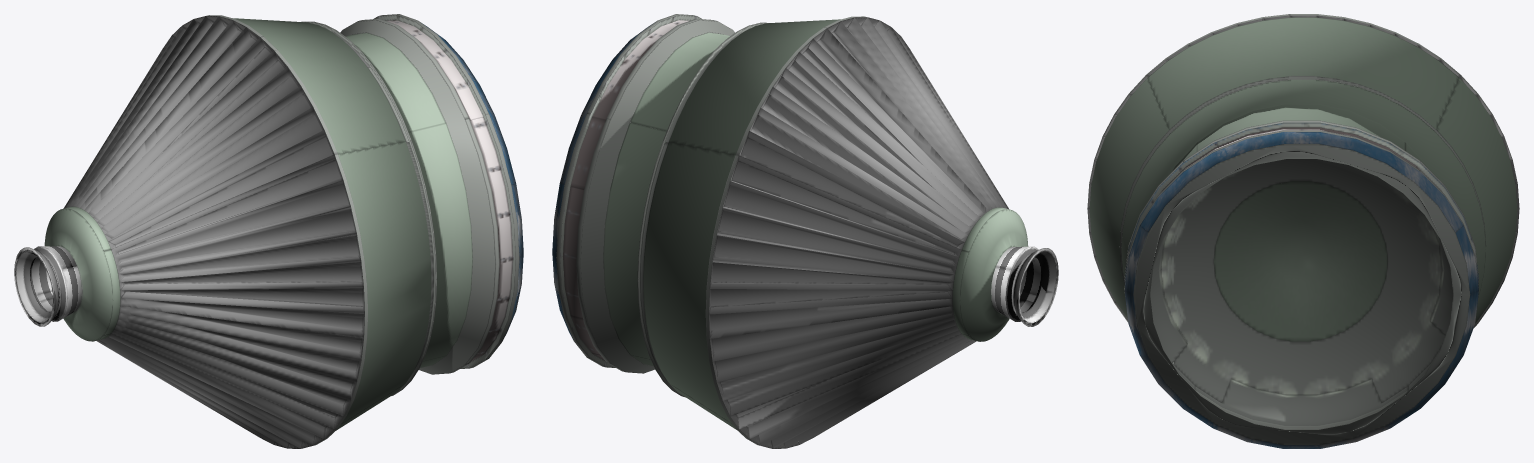
File: Engine Mod.fbx
The picture shows the model from 3 angles, left to right: view 1: azimuth 30°, elevation 25°; view 2: azimuth 150°, elevation 25°; view 3: azimuth 270°, elevation 25°; orthographic projection. The views are drawn at different scales.
Parts seen in each view (by area): view 1: Empty_Mesh; view 2: Empty_Mesh; view 3: Empty_Mesh.
Part boxes in pixels (left/top/right/bottom): Empty_Mesh: left=14, top=14, right=523, bottom=448; Empty_Mesh: left=552, top=14, right=1058, bottom=448; Empty_Mesh: left=1087, top=14, right=1519, bottom=448.
Bounding box in the file's own units: 5.9 × 5.63 × 5.68.
